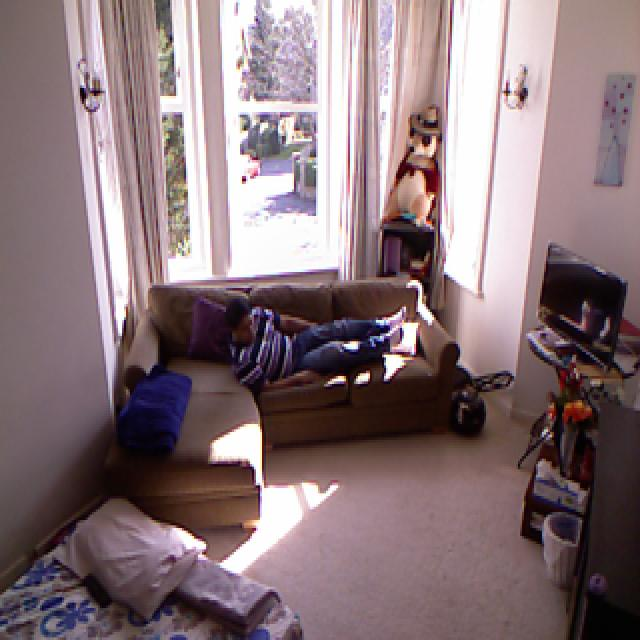lying: (219, 290, 411, 382)
